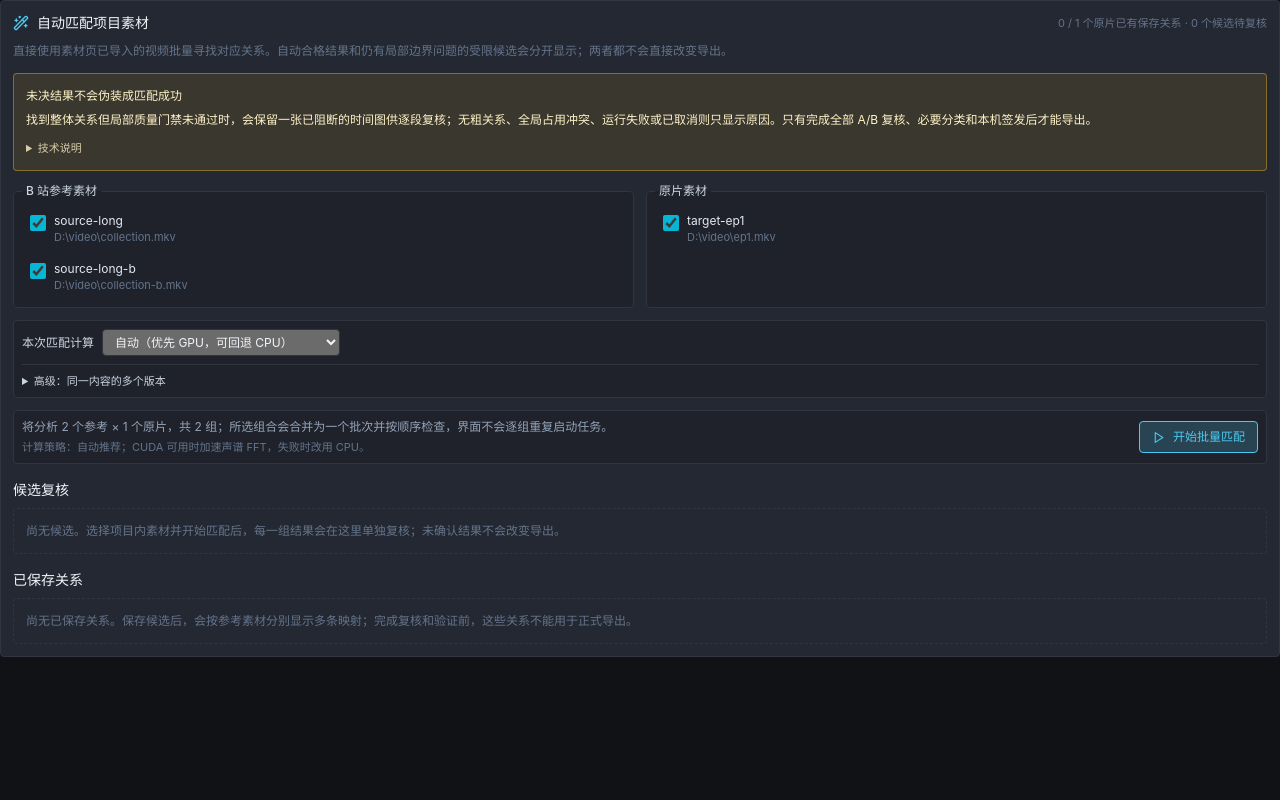
Test case: 多媒体自动匹配工作台 › 原生精匹配未决时不发布候选并明确说明接近位置数量
Click the button "开始批量匹配": [1198, 437] box [1139,421,1258,453]
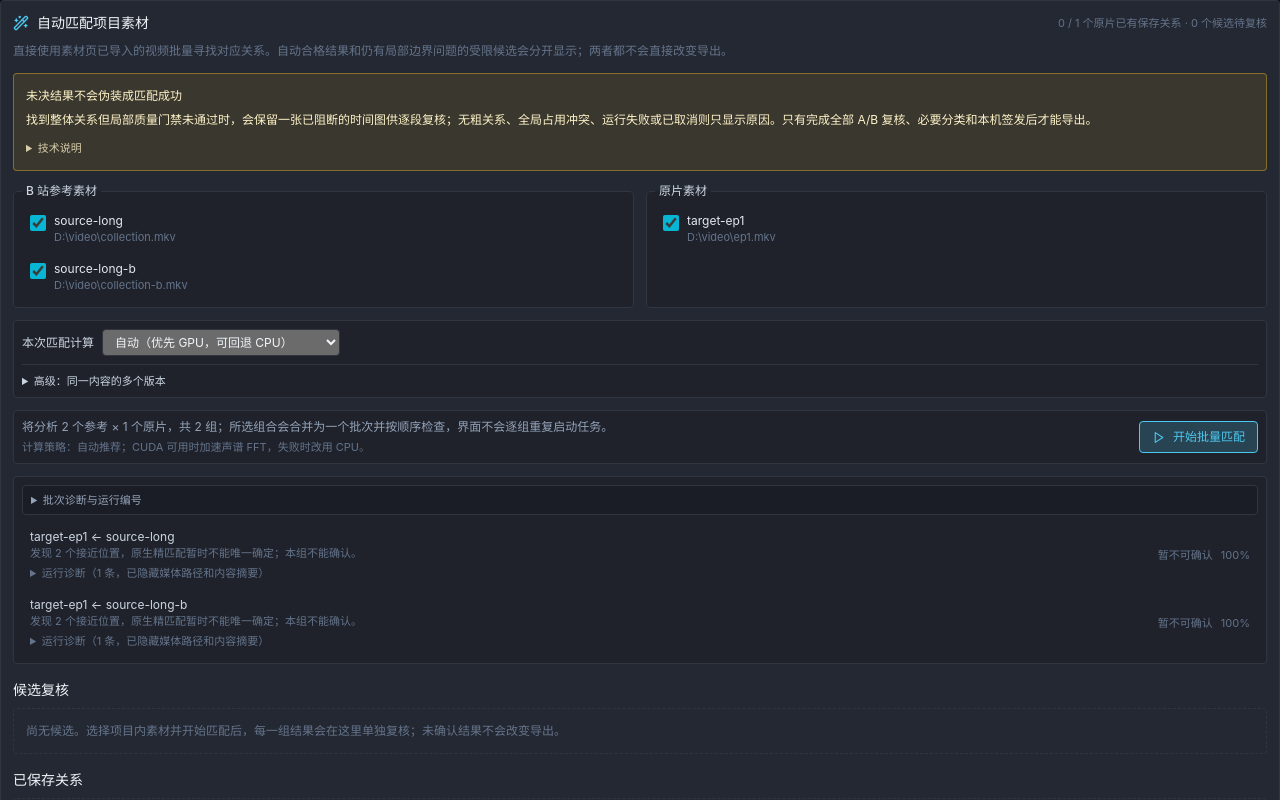
Check: the text "发现 2 个接近位置，原生精匹配暂时不能唯一确定；本组不能确认。" is shown 2 times, box [30,546,362,560]; [30,614,362,628]
